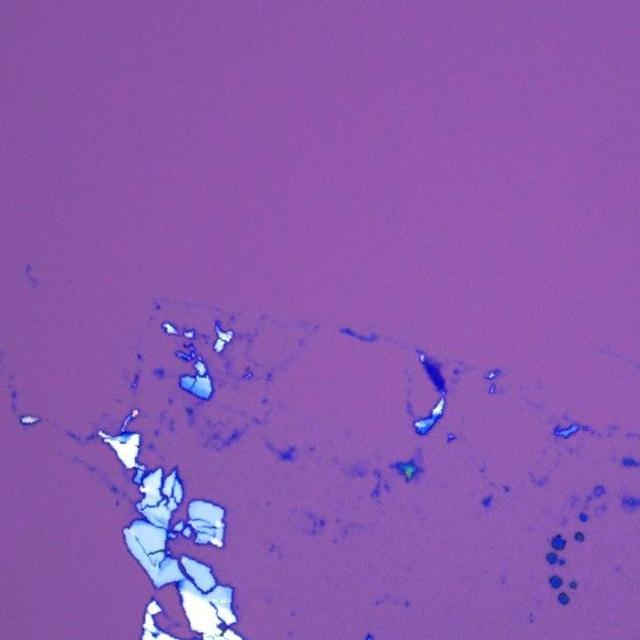monolayer-eWW4: (426, 356, 441, 369)
